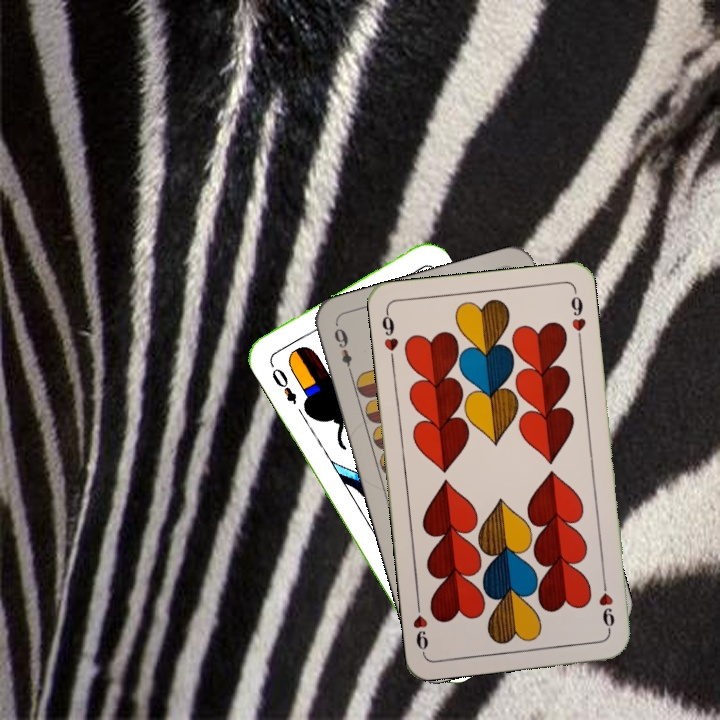E9: (330, 321, 356, 379)
EO: (268, 363, 300, 407)
H9: (377, 307, 401, 366), (595, 575, 617, 634)
